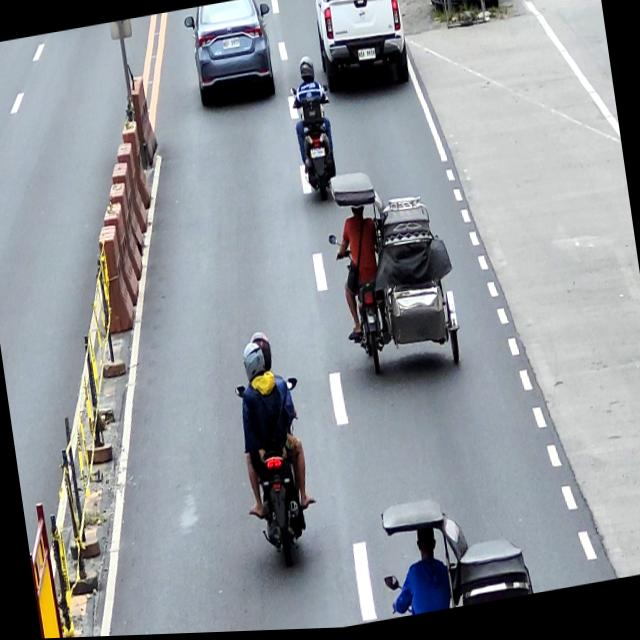Car: (182, 0, 282, 111), (310, 0, 411, 101)
License-Plate: (357, 49, 376, 64), (222, 39, 240, 53), (310, 148, 326, 161)
Motorcycle: (234, 376, 324, 575), (289, 81, 344, 209)
Tricycle: (320, 160, 464, 391), (373, 485, 534, 622)
